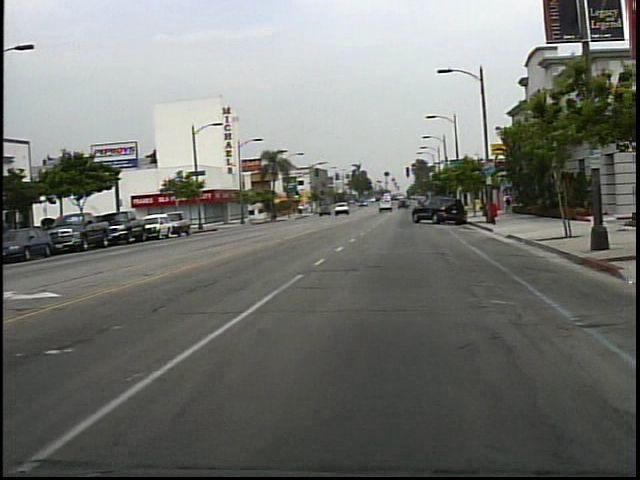person: (505, 190, 519, 219)
